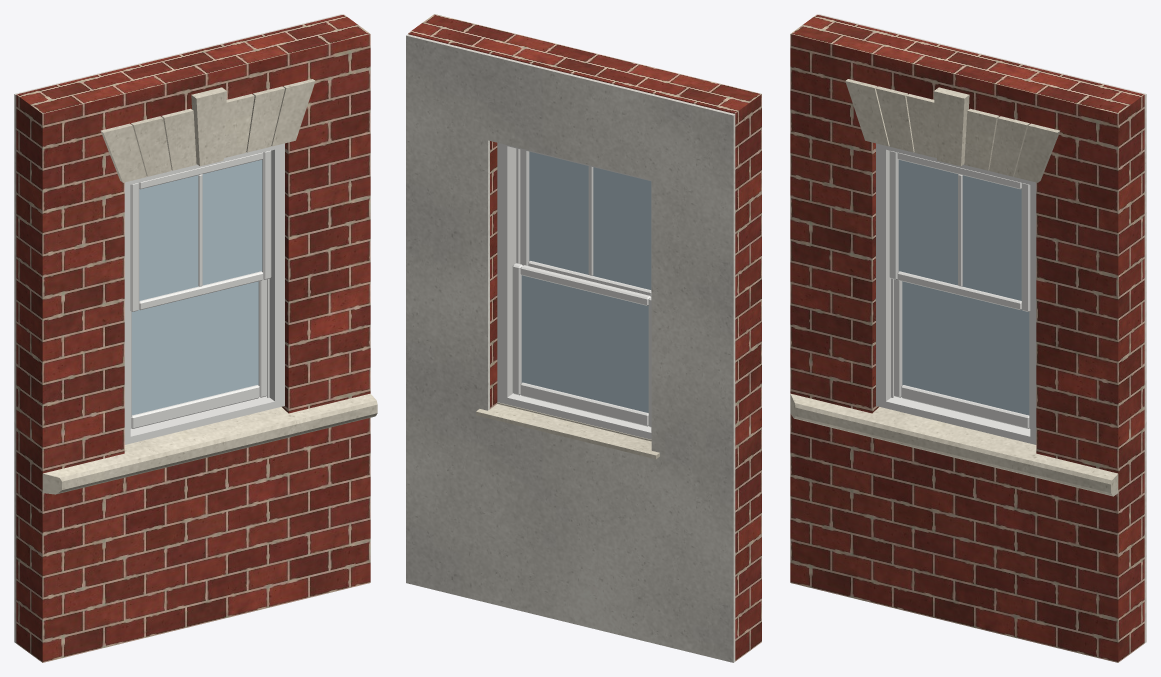
Rendered from u2_wall_window_pvr.glb.
The picture shows the model from 3 angles, left to right: view 1: azimuth 30°, elevation 25°; view 2: azimuth 150°, elevation 25°; view 3: azimuth 330°, elevation 25°; orthographic projection.
Visible parts, largest first — view 1: u2_wall_window_pvr_brick, u2_wall_window_pvr_glass, u2_wall_window_pvr_trim, u2_wall_window_pvr_frame, u2_wall_window_pvr_sash, u2_wall_window_pvr_plaster; view 2: u2_wall_window_pvr_plaster, u2_wall_window_pvr_glass, u2_wall_window_pvr_brick, u2_wall_window_pvr_sash, u2_wall_window_pvr_frame, u2_wall_window_pvr_trim; view 3: u2_wall_window_pvr_brick, u2_wall_window_pvr_glass, u2_wall_window_pvr_trim, u2_wall_window_pvr_frame, u2_wall_window_pvr_sash, u2_wall_window_pvr_plaster.
Part boxes in pixels (<box>): u2_wall_window_pvr_brick: <box>16,14,370,662</box>; u2_wall_window_pvr_glass: <box>131,160,262,415</box>; u2_wall_window_pvr_trim: <box>42,79,377,494</box>; u2_wall_window_pvr_frame: <box>124,143,284,444</box>; u2_wall_window_pvr_sash: <box>130,150,271,428</box>; u2_wall_window_pvr_plaster: <box>14,14,342,643</box>; u2_wall_window_pvr_plaster: <box>406,34,735,662</box>; u2_wall_window_pvr_glass: <box>521,151,651,412</box>; u2_wall_window_pvr_brick: <box>408,14,761,661</box>; u2_wall_window_pvr_sash: <box>512,149,651,427</box>; u2_wall_window_pvr_frame: <box>497,142,651,439</box>; u2_wall_window_pvr_trim: <box>476,402,659,458</box>; u2_wall_window_pvr_brick: <box>790,14,1144,662</box>; u2_wall_window_pvr_glass: <box>898,160,1029,415</box>; u2_wall_window_pvr_trim: <box>790,79,1118,496</box>; u2_wall_window_pvr_frame: <box>876,143,1036,444</box>; u2_wall_window_pvr_sash: <box>889,150,1030,428</box>; u2_wall_window_pvr_plaster: <box>818,14,1146,643</box>.
Bounding box in the file's own units: 2 × 3.2 × 0.415.
6 materials, 3 textured.
